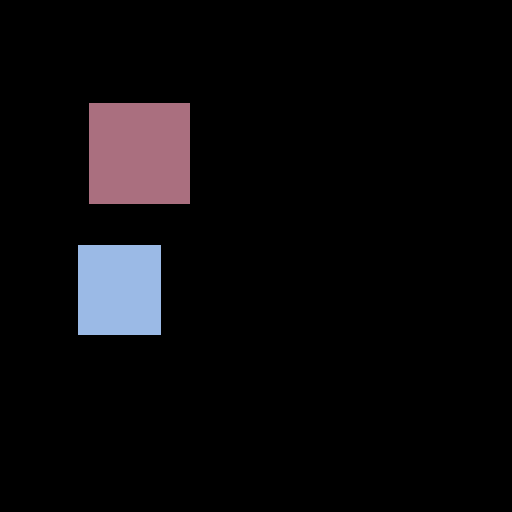square: (89, 103, 189, 203), (78, 245, 160, 334)
